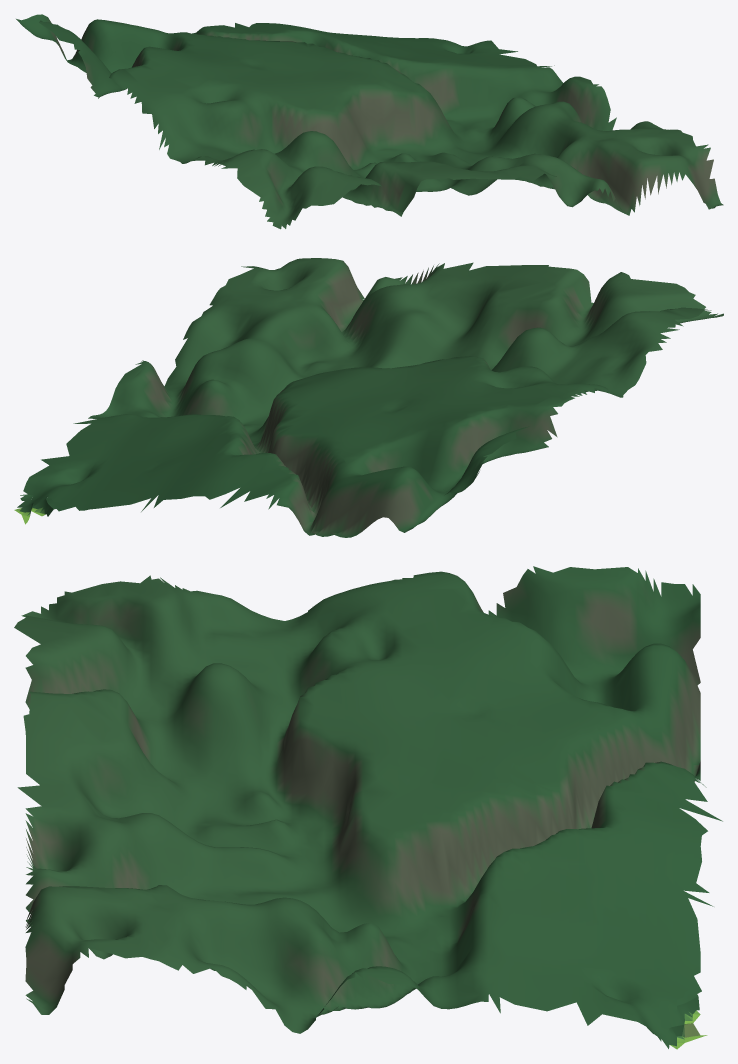
The model's file is payo_land_xm2_y7.glb.
3 renders of one model, top to bottom at view 1: azimuth 30°, elevation 25°; view 2: azimuth 150°, elevation 25°; view 3: azimuth 270°, elevation 25°, orthographic. The views are drawn at different scales.
Visible parts, largest first — view 1: payo_land_xm2_y7; view 2: payo_land_xm2_y7; view 3: payo_land_xm2_y7.
Boxes of the visible parts, x1=… form: payo_land_xm2_y7: x1=16, y1=14, x2=723, y2=229; payo_land_xm2_y7: x1=14, y1=258, x2=723, y2=537; payo_land_xm2_y7: x1=14, y1=566, x2=722, y2=1049.
Size of the model in its own units: 267 by 83.15 by 271.
